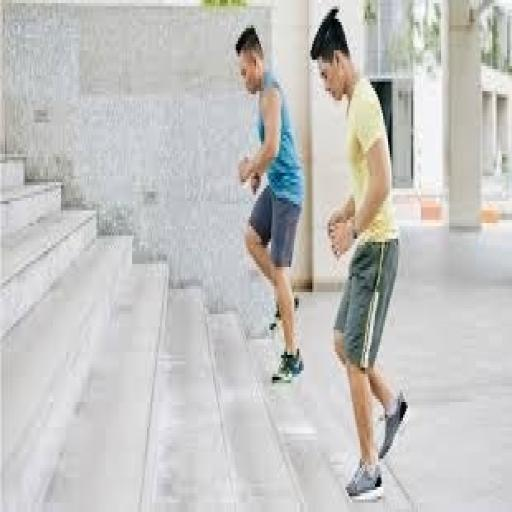running: (309, 3, 411, 506), (233, 22, 307, 389)
